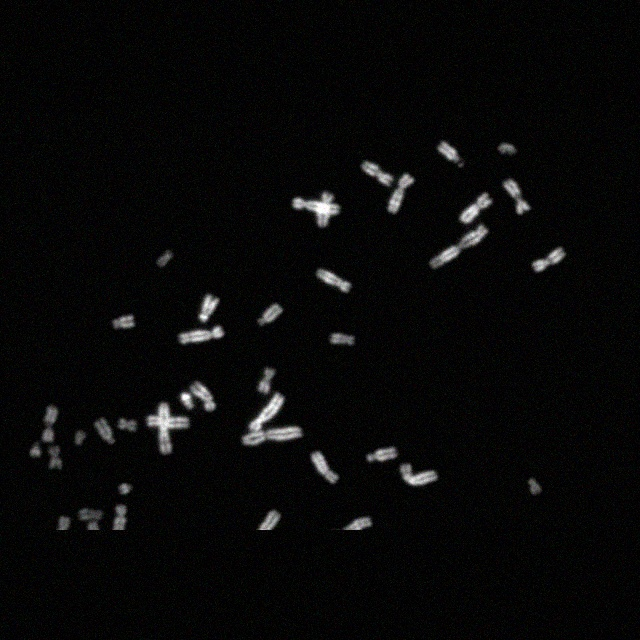chromosome: (430, 224, 488, 268), (249, 392, 285, 432), (388, 173, 414, 214), (459, 193, 493, 224), (310, 451, 340, 485), (242, 428, 302, 444), (504, 178, 530, 214), (292, 197, 340, 215), (400, 464, 438, 486), (361, 161, 393, 187), (178, 326, 224, 344), (532, 248, 566, 272), (317, 268, 351, 292), (158, 402, 172, 456), (190, 382, 215, 411), (438, 142, 464, 168), (199, 294, 219, 322), (318, 192, 334, 226), (44, 406, 59, 442), (258, 303, 282, 325), (147, 416, 189, 428), (96, 419, 114, 445), (260, 510, 282, 530), (368, 448, 398, 462), (259, 367, 275, 393), (344, 516, 372, 530), (48, 446, 62, 469), (114, 505, 126, 531), (156, 250, 172, 268), (113, 316, 135, 329), (80, 508, 103, 520), (180, 392, 195, 410), (330, 334, 356, 344), (118, 418, 136, 432), (28, 443, 42, 457), (74, 430, 86, 446), (529, 478, 541, 494), (498, 144, 516, 154), (118, 484, 132, 496), (59, 516, 71, 530)
